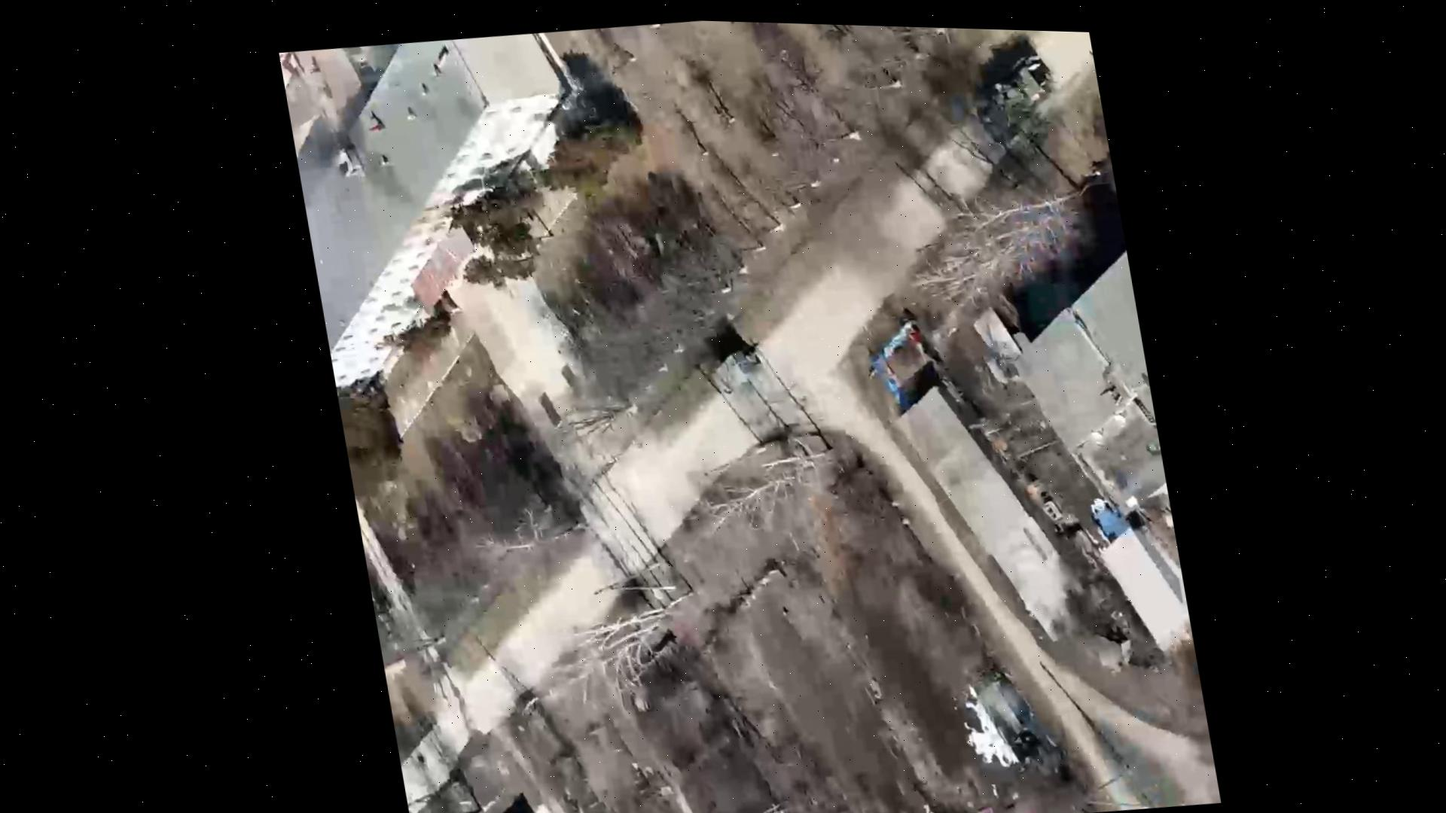tank: (967, 50, 1067, 155)
